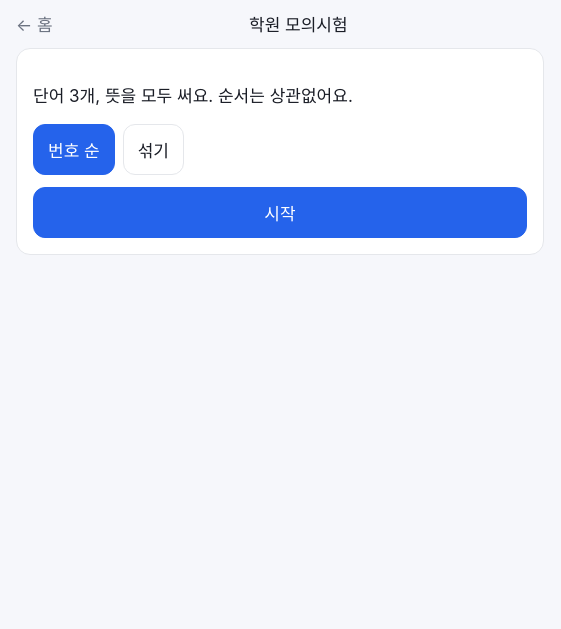
Test case: MockExam › records only once on a double tap
Click the button "시작".
click(280, 212)  # box [33,187,527,238]
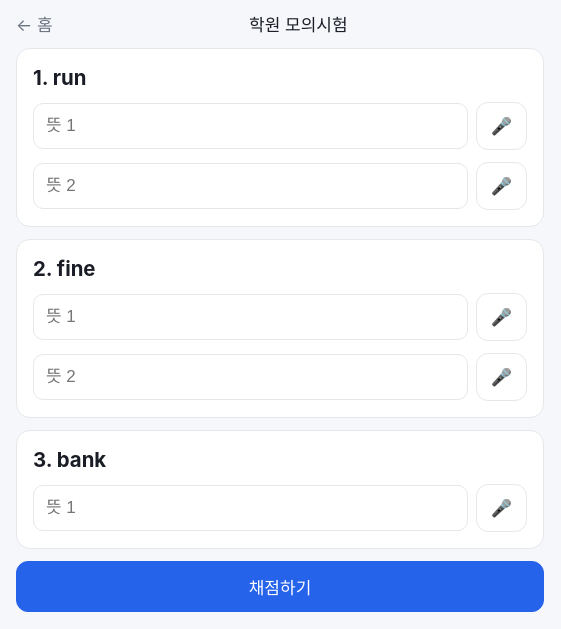
Type "달리다" into the field named "run 뜻 1".
click(250, 126); type("달리다")  # box [33,103,468,149]
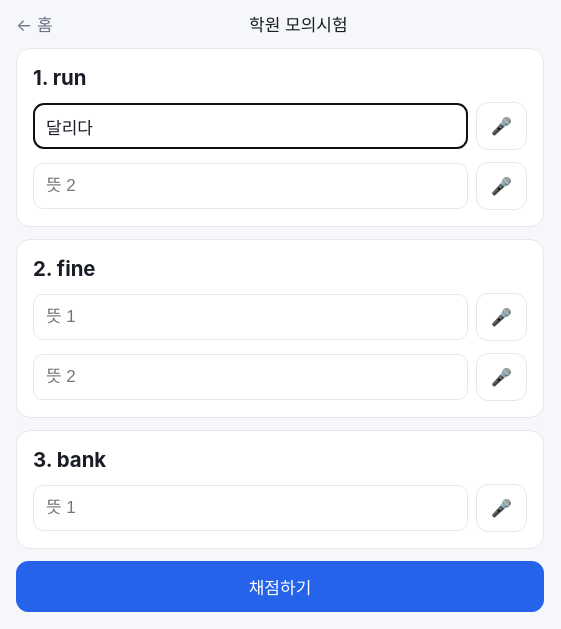
Type "운영하다" into the field named "run 뜻 2".
click(250, 186); type("운영하다")  # box [33,163,468,209]
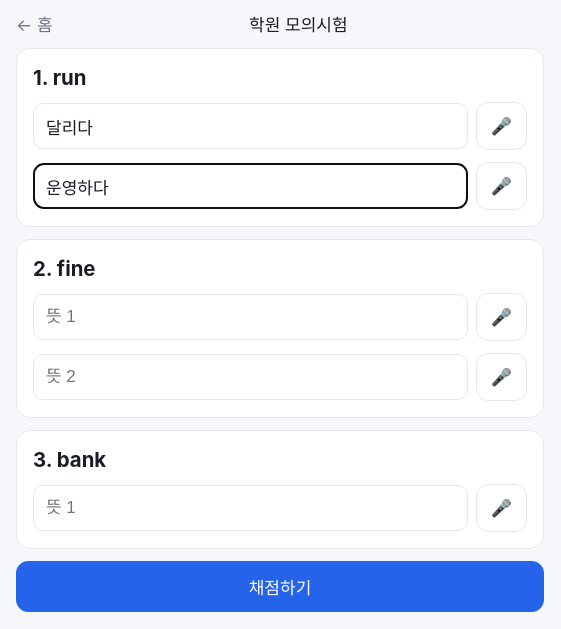
Double-click the button "채점하기".
double_click(280, 586)  # box [16,561,544,612]
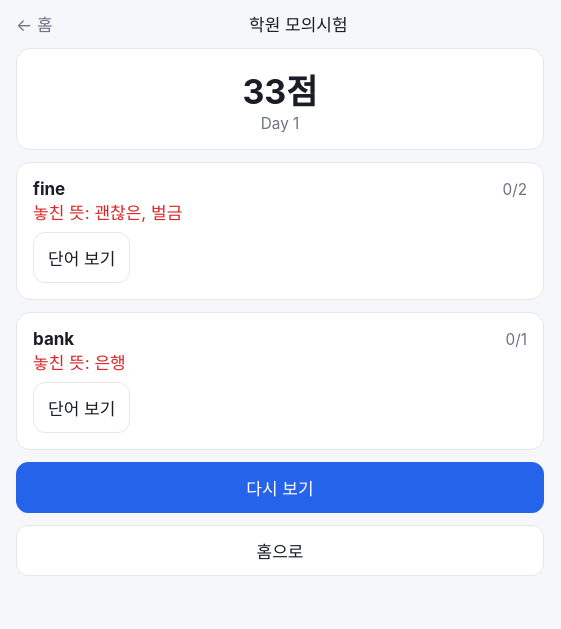
Check: the text "33점" is shown, box [242,71,318,112]
